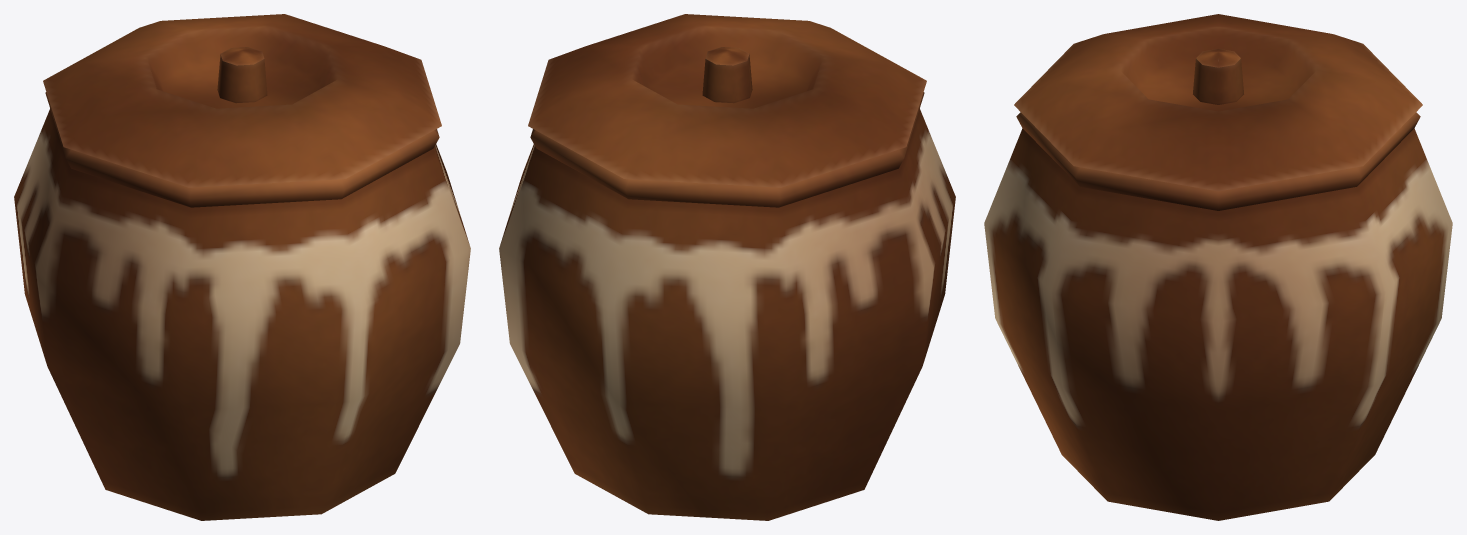
Rendered from jsf_Ingredient_Source_02.fbx.
3 renders of one model, left to right at view 1: azimuth 30°, elevation 25°; view 2: azimuth 150°, elevation 25°; view 3: azimuth 270°, elevation 25°, orthographic.
Visible parts, largest first — view 1: Body, Lid; view 2: Body, Lid; view 3: Body, Lid.
Boxes of the visible parts, x1,y1,x2,y2 form: Body: [14, 92, 470, 520]; Lid: [43, 14, 441, 187]; Body: [499, 92, 955, 520]; Lid: [528, 14, 926, 187]; Body: [984, 112, 1452, 520]; Lid: [1014, 14, 1422, 191].
Size of the model in its own units: 14.69 by 13.91 by 14.69.
